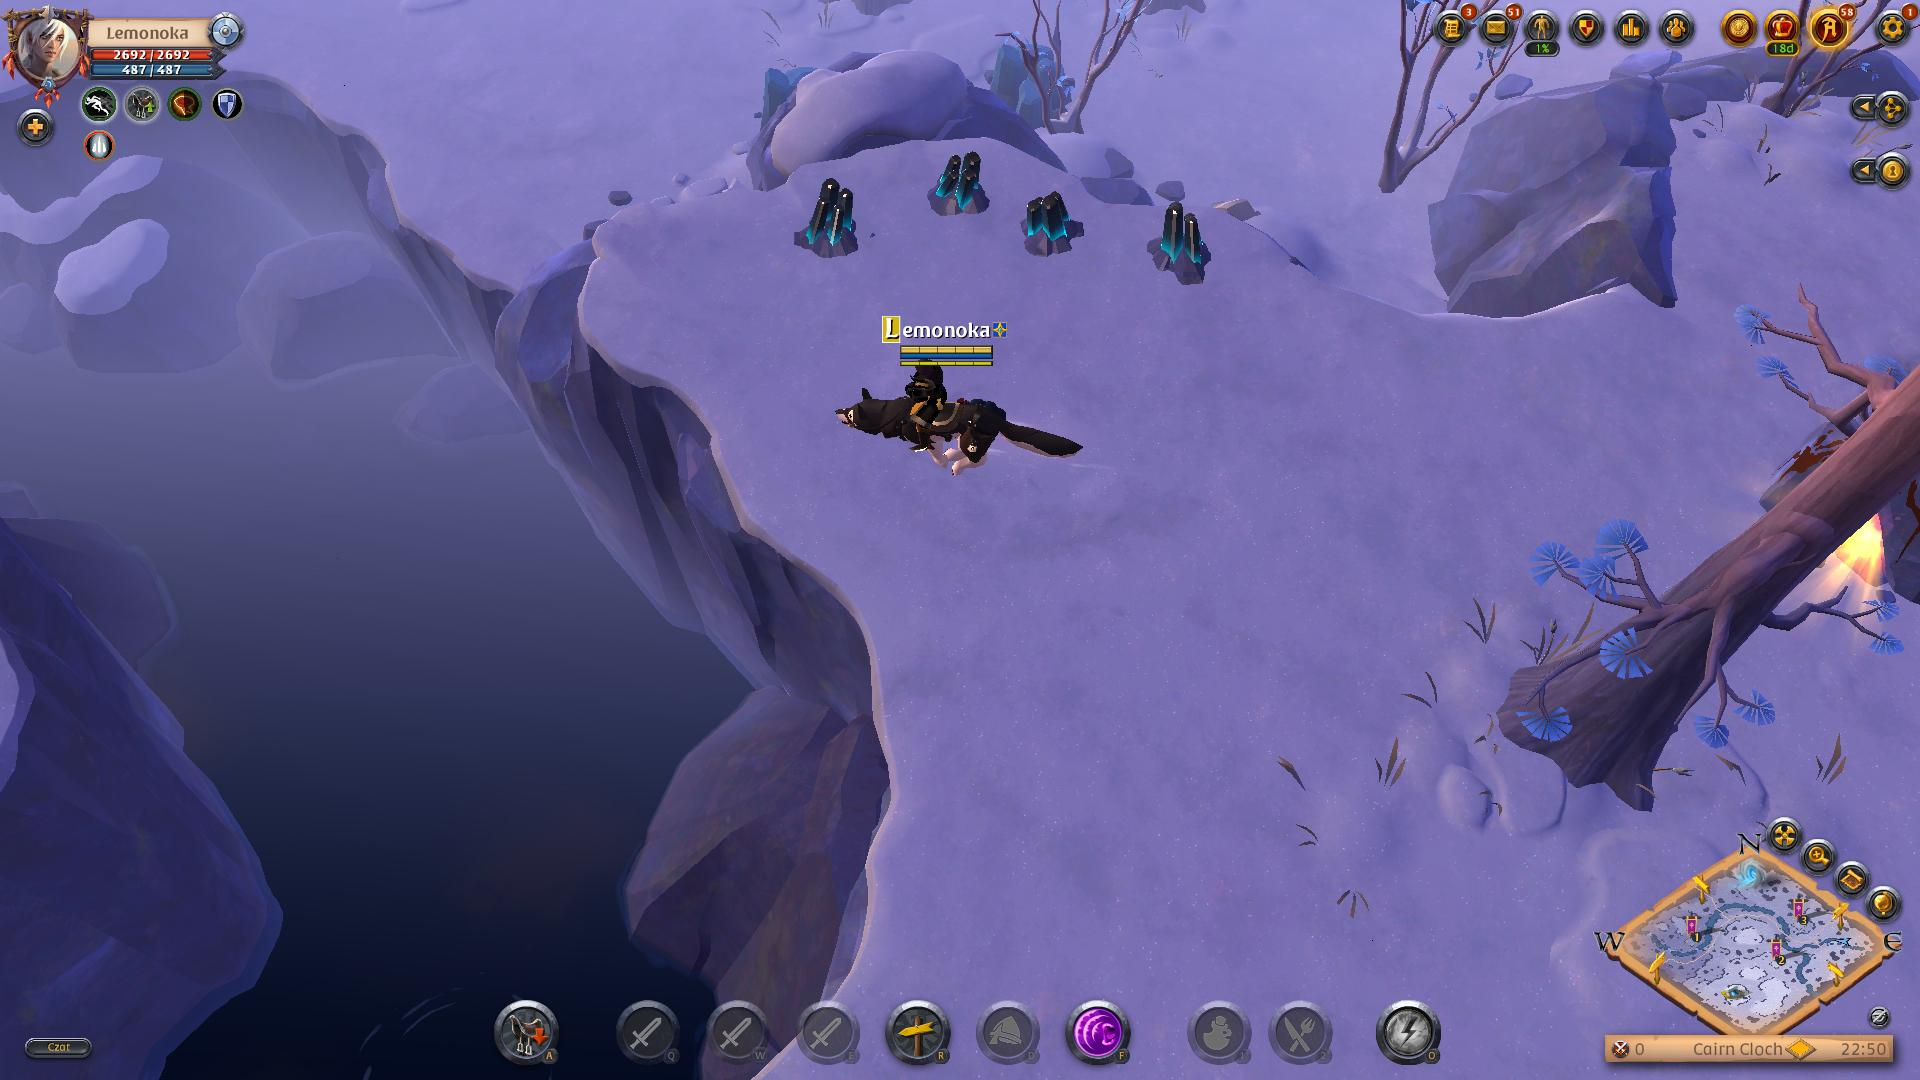ore tier 4: (1145, 193, 1221, 293), (789, 177, 870, 266), (915, 144, 994, 227), (1015, 191, 1087, 260)
